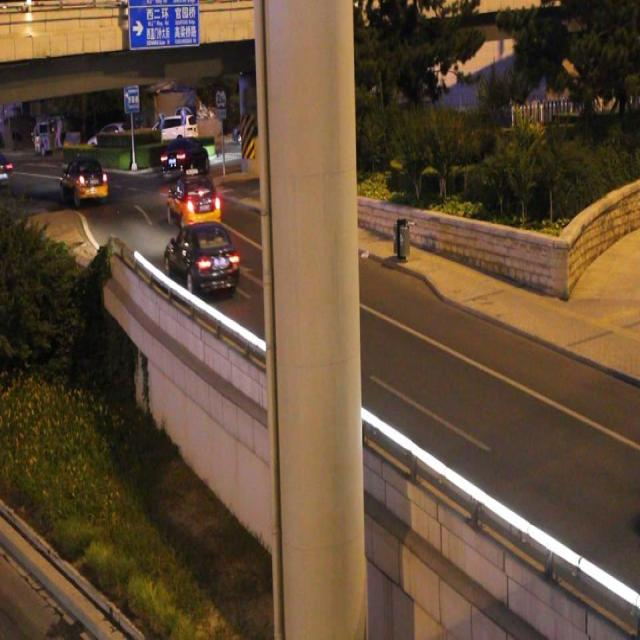car: (162, 221, 238, 297), (165, 168, 220, 230)
